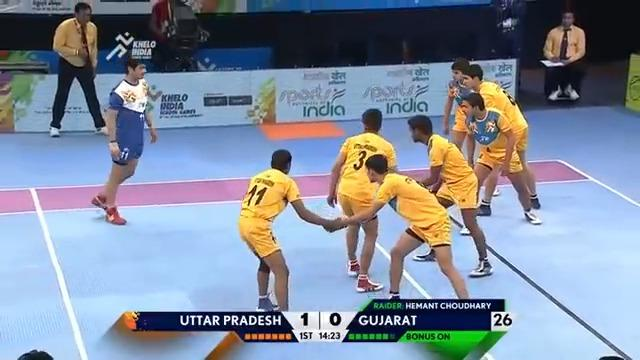Player: (327, 152, 472, 301), (235, 145, 345, 312), (400, 113, 495, 279), (450, 61, 544, 225), (325, 106, 398, 292)
Raider: (89, 55, 162, 226)
referee: (48, 1, 108, 137), (541, 9, 586, 102)
